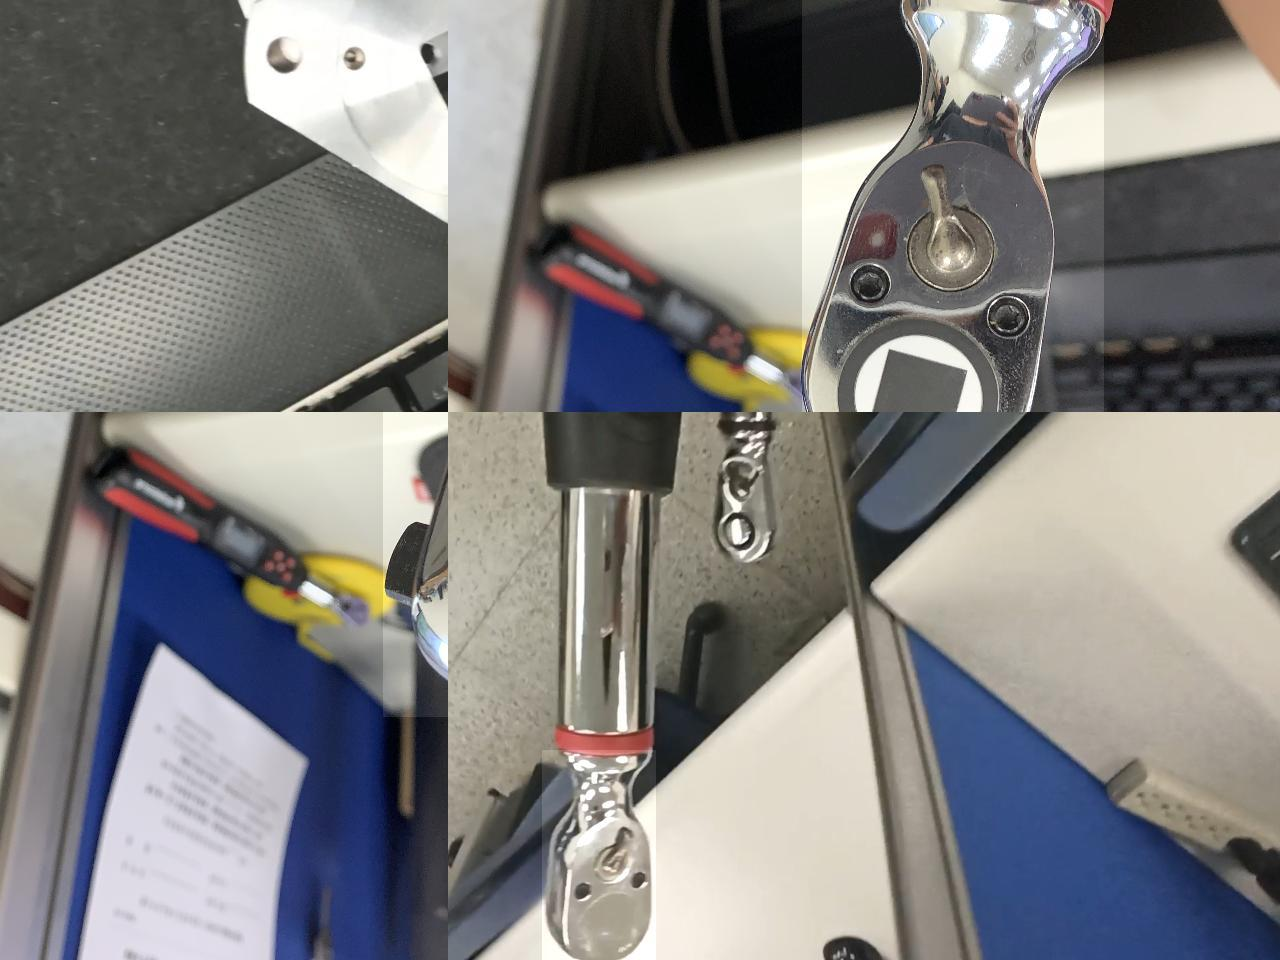Tool: (801, 0, 1103, 412), (541, 749, 655, 960), (710, 426, 780, 568)
